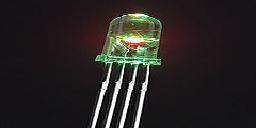LED: (83, 11, 168, 128)
